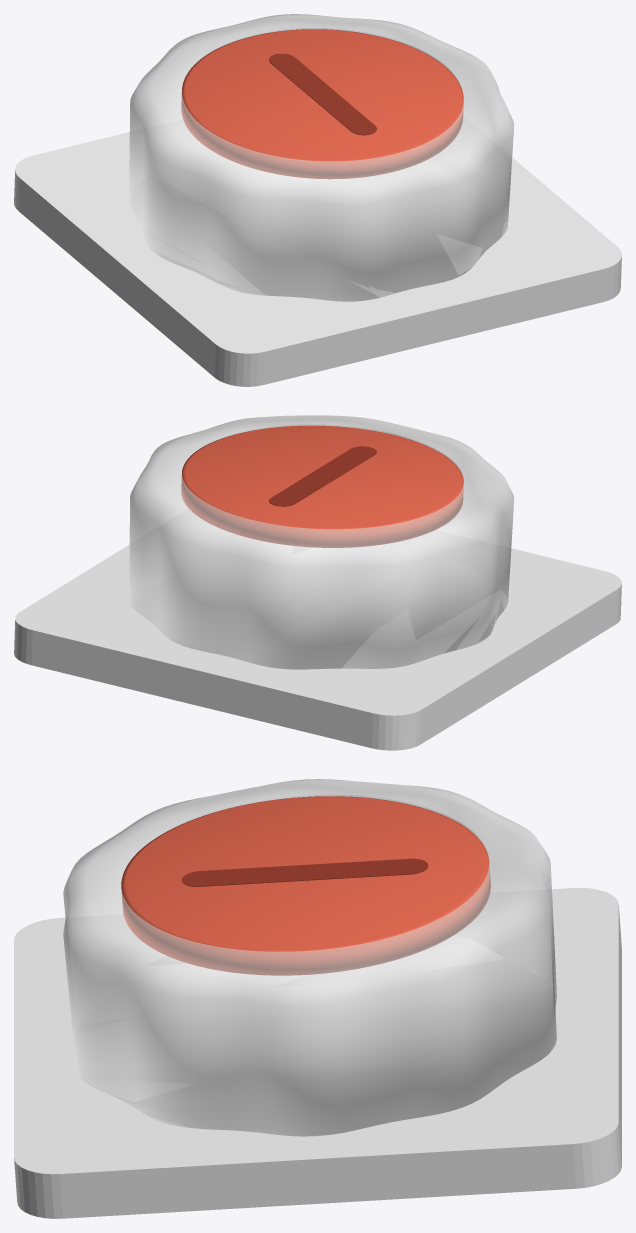
Rendered from keyboard-knob.glb.
The picture shows the model from 3 angles, top to bottom: view 1: azimuth 30°, elevation 25°; view 2: azimuth 150°, elevation 25°; view 3: azimuth 270°, elevation 25°; orthographic projection. The views are drawn at different scales.
Visible parts, largest first — view 1: Knob_Plate, Knob_Ring, Knob_Disc, Knob_Slot; view 2: Knob_Plate, Knob_Ring, Knob_Disc, Knob_Slot; view 3: Knob_Plate, Knob_Ring, Knob_Disc, Knob_Slot.
Part boxes in pixels (x1=…): Knob_Plate: x1=14, y1=117, x2=621, y2=386; Knob_Ring: x1=129, y1=14, x2=514, y2=301; Knob_Disc: x1=181, y1=29, x2=463, y2=179; Knob_Slot: x1=269, y1=53, x2=376, y2=135; Knob_Plate: x1=14, y1=508, x2=621, y2=750; Knob_Ring: x1=129, y1=415, x2=514, y2=669; Knob_Disc: x1=181, y1=425, x2=463, y2=547; Knob_Slot: x1=269, y1=446, x2=376, y2=506; Knob_Plate: x1=14, y1=888, x2=621, y2=1218; Knob_Ring: x1=63, y1=779, x2=556, y2=1136; Knob_Disc: x1=121, y1=796, x2=490, y2=975; Knob_Slot: x1=182, y1=858, x2=428, y2=886.
Size of the model in its own units: 0.0184 by 0.00775 by 0.0185.
